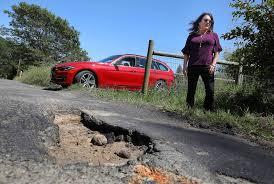pothole: (36, 102, 194, 184)
